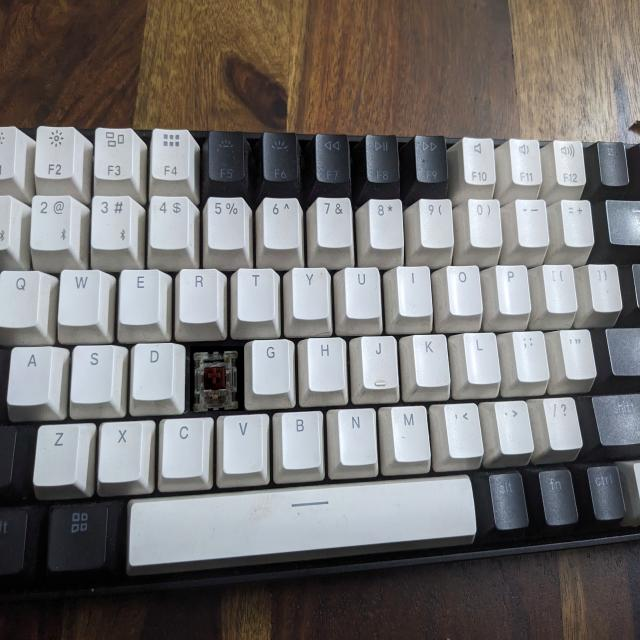C: (190, 346, 244, 411)
